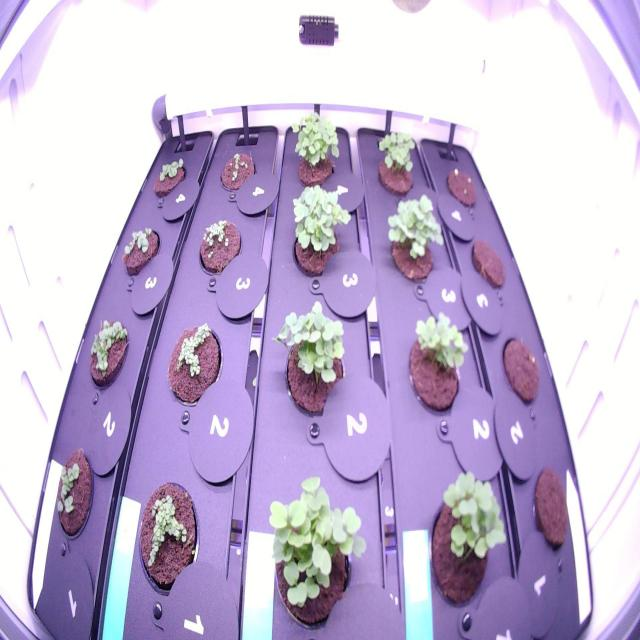germination: (262, 461, 372, 633), (419, 464, 512, 618), (275, 292, 354, 424), (130, 472, 205, 607), (397, 306, 477, 425), (282, 174, 358, 288), (158, 308, 228, 421), (381, 186, 447, 290), (48, 438, 102, 558), (283, 102, 347, 193), (85, 311, 138, 398), (370, 115, 423, 200), (193, 206, 248, 285), (119, 212, 164, 283), (216, 142, 260, 204), (149, 143, 193, 204)
pod: (523, 455, 578, 567), (496, 325, 550, 420), (463, 232, 512, 298), (442, 156, 482, 214)
